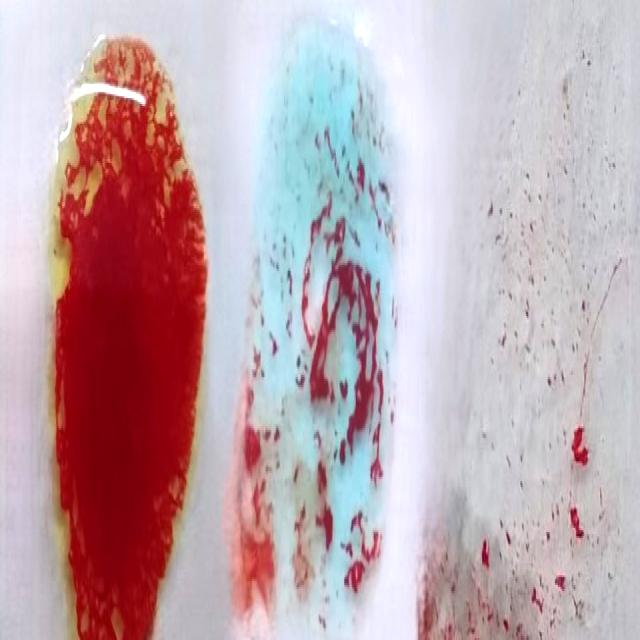A: (238, 36, 386, 640)
B: (50, 35, 205, 640)
D: (446, 35, 628, 640)
